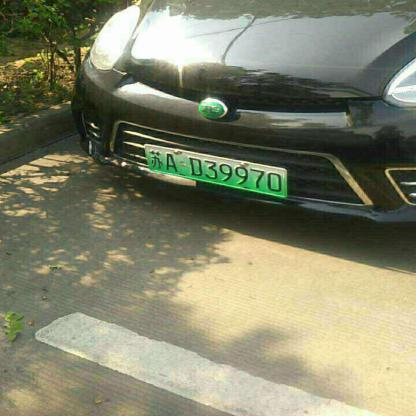lp: (146, 146, 287, 198)
